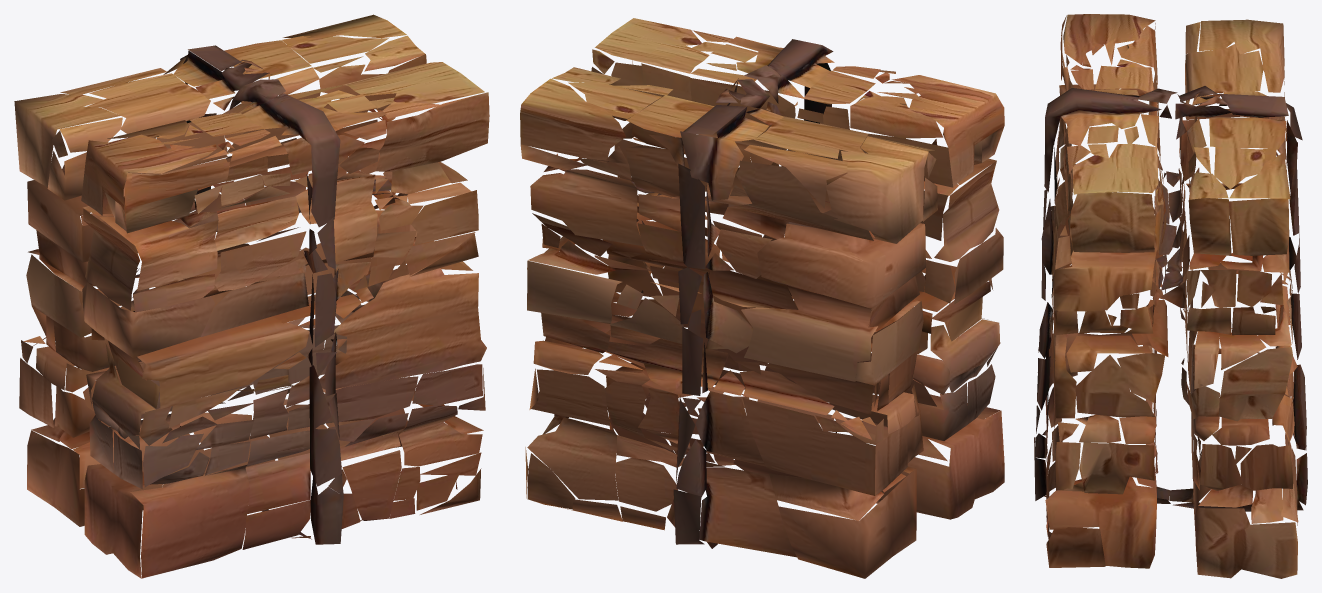
Rendered from tabuas.glb.
3 views of the same model, side by side, from view 1: azimuth 30°, elevation 25°; view 2: azimuth 150°, elevation 25°; view 3: azimuth 270°, elevation 25° (orthographic). The views are drawn at different scales.
Parts seen in each view (by area): view 1: tripo_node_5ffecb79-6934-4553-9073-58b18a813149; view 2: tripo_node_5ffecb79-6934-4553-9073-58b18a813149; view 3: tripo_node_5ffecb79-6934-4553-9073-58b18a813149.
Part boxes in pixels (x1,y1,x2,y2): tripo_node_5ffecb79-6934-4553-9073-58b18a813149: [14, 14, 489, 578]; tripo_node_5ffecb79-6934-4553-9073-58b18a813149: [520, 18, 1004, 578]; tripo_node_5ffecb79-6934-4553-9073-58b18a813149: [1034, 14, 1307, 578].
Bounding box in the file's own units: 0.8878 × 0.9877 × 0.5862.
1 material, 1 textured.
